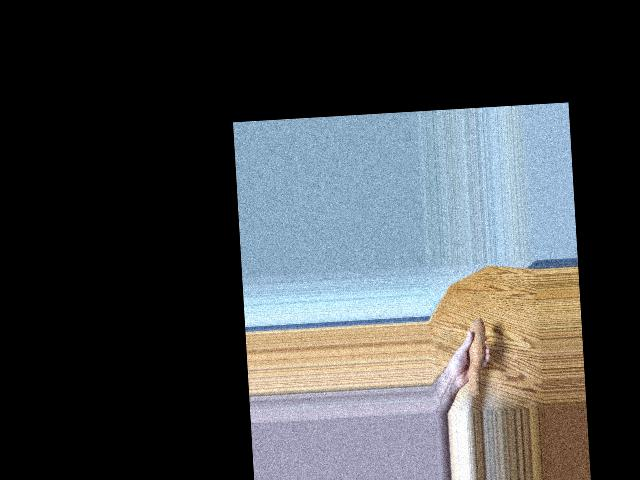sweet_potato: (463, 316, 491, 398)
